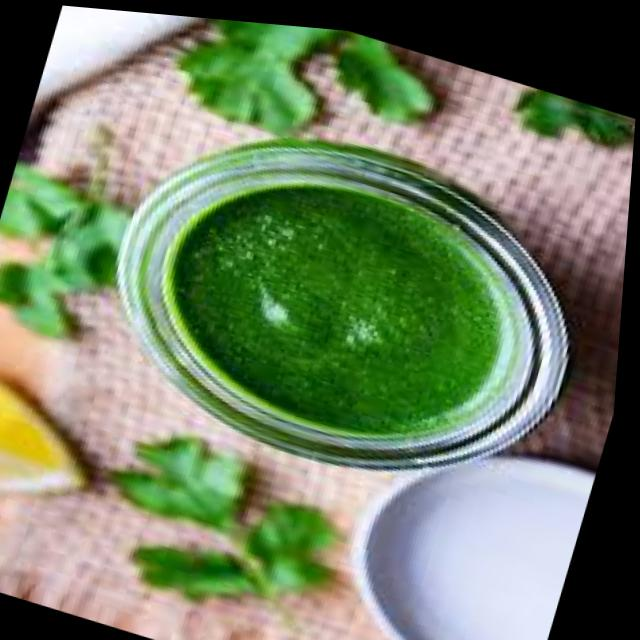CURD: (392, 463, 586, 640)
GREEN CHUTNEY: (167, 186, 510, 442)
